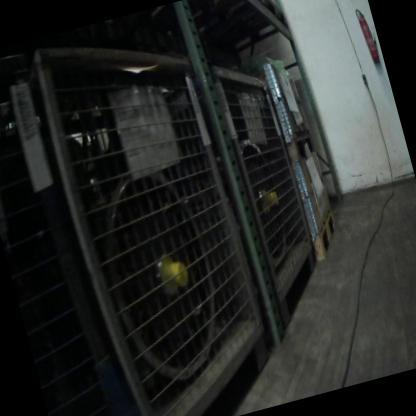pallet: (196, 0, 290, 53), (302, 205, 348, 275), (166, 0, 248, 21)
stillage: (0, 5, 286, 416), (200, 43, 340, 354)
